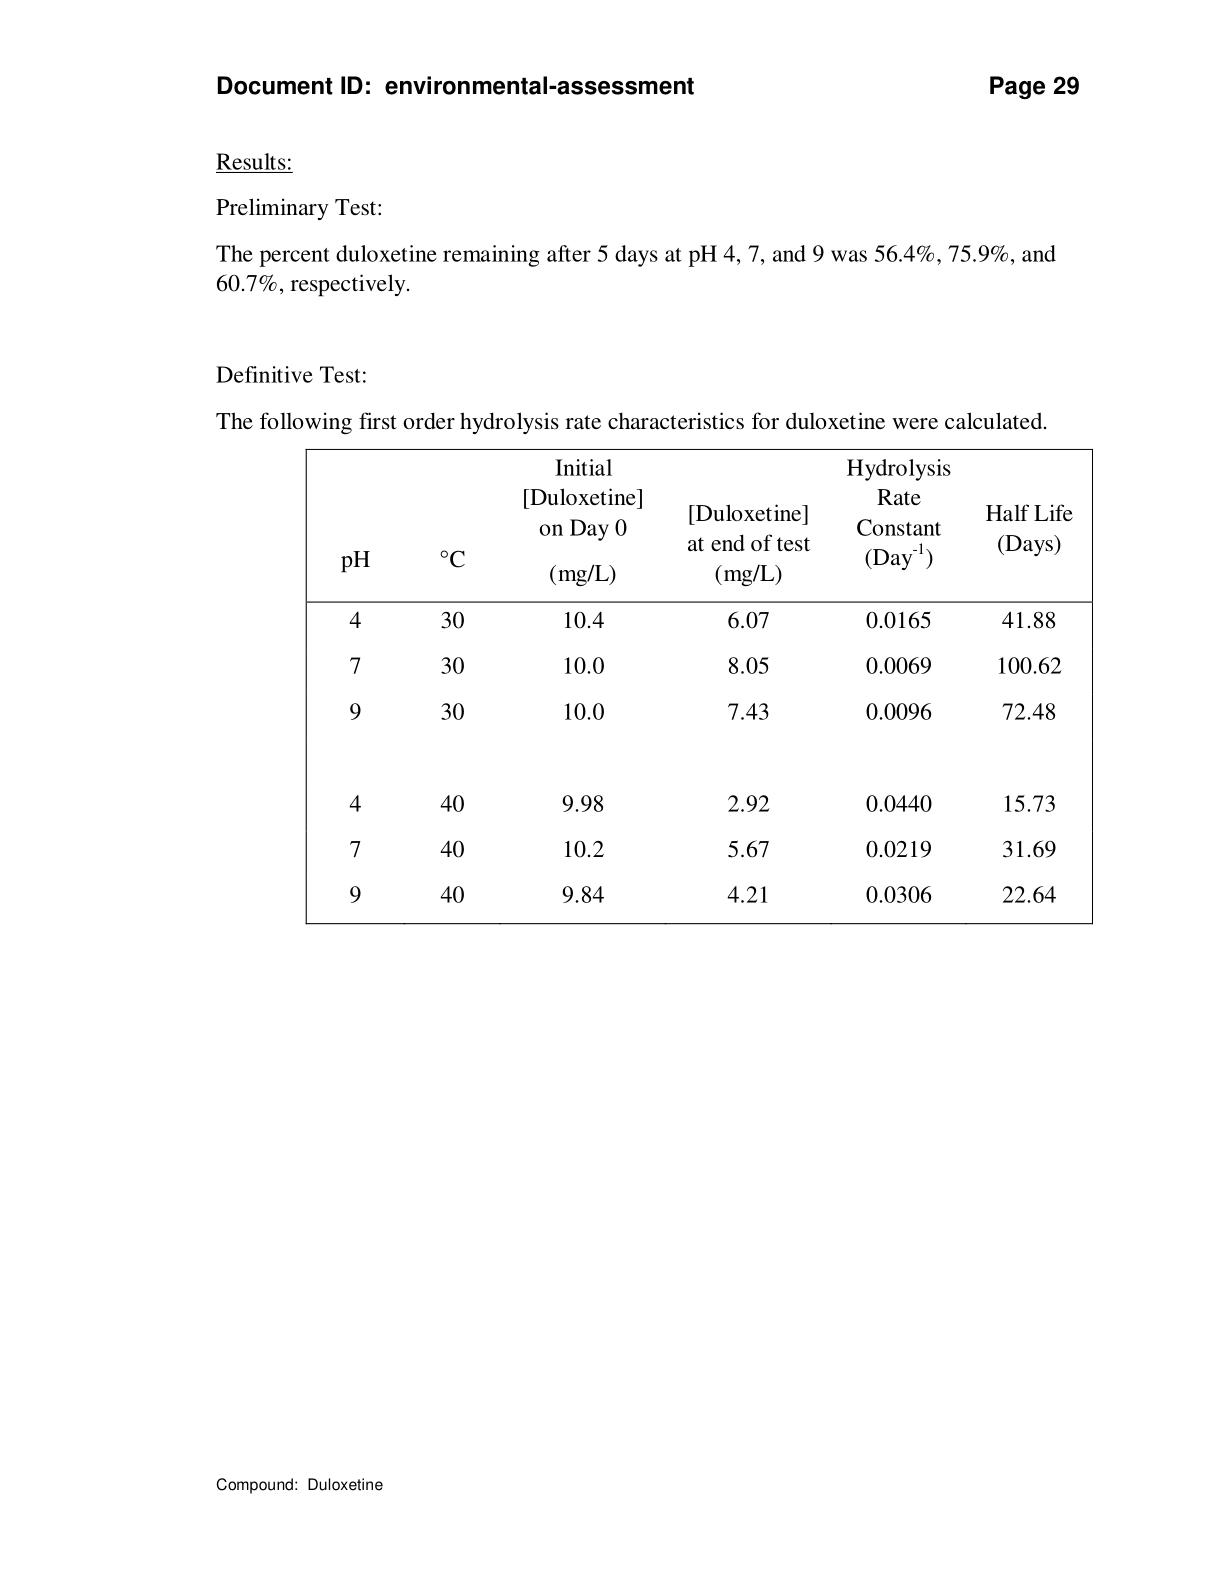partial_lined: (303, 446, 1095, 927)
